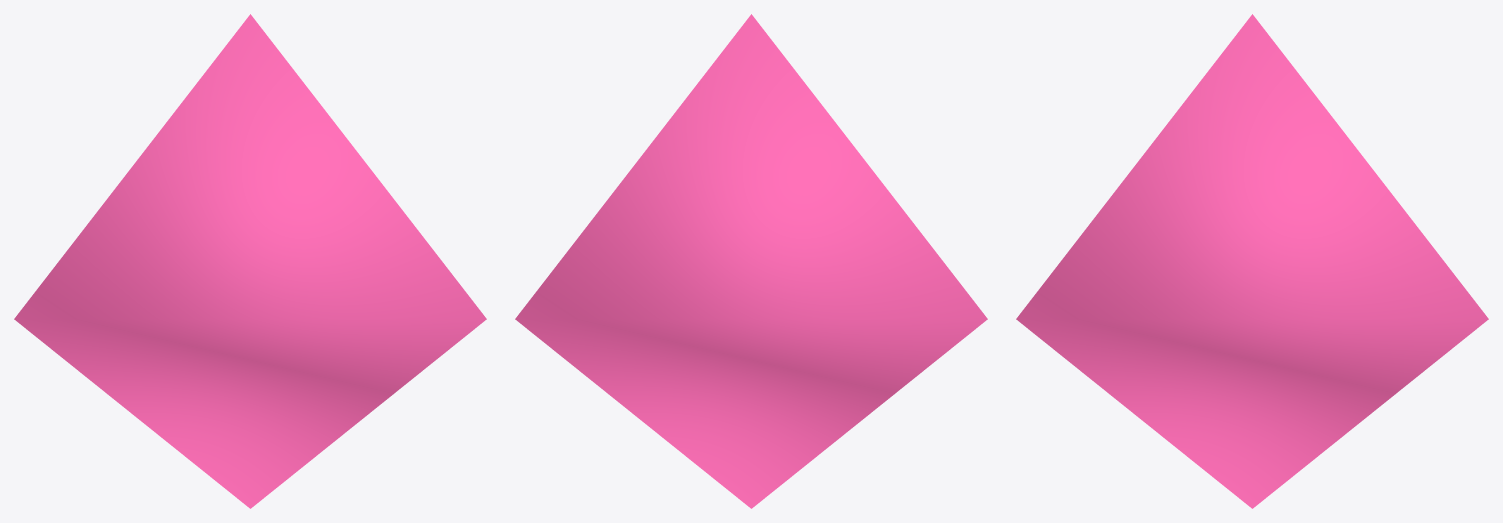
The picture shows the model from 3 angles, left to right: view 1: azimuth 30°, elevation 25°; view 2: azimuth 150°, elevation 25°; view 3: azimuth 270°, elevation 25°; orthographic projection.
Size of the model in its own units: 1.5 by 2 by 1.73.
